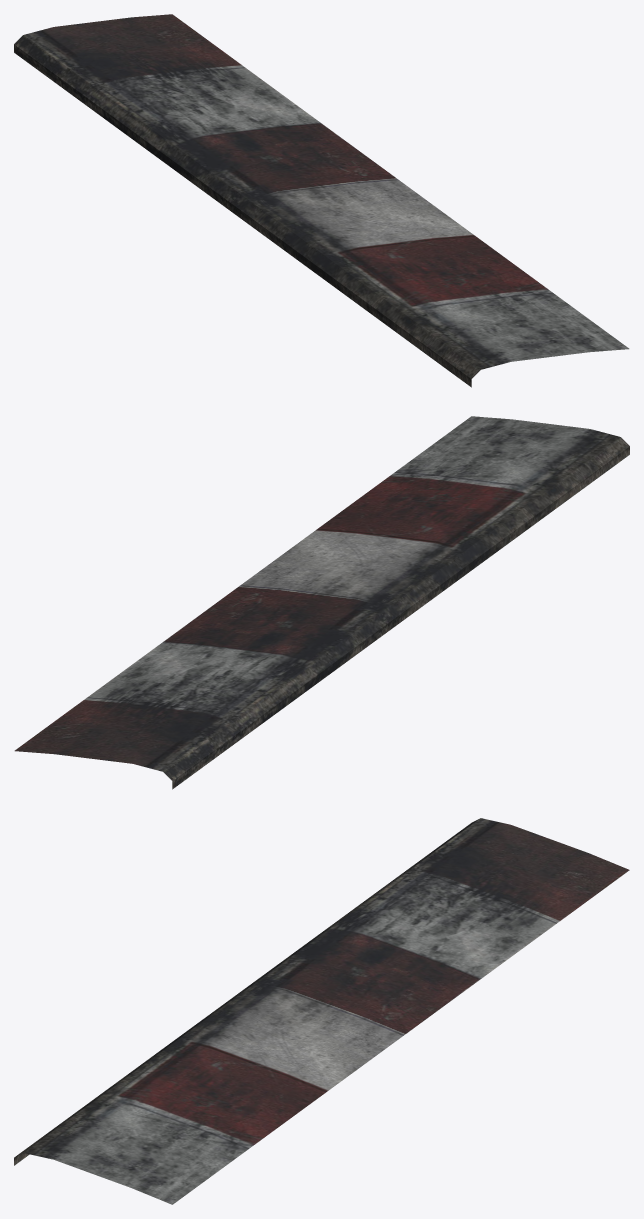
Rendered from RoadCurb.fbx.
3 views of the same model, one above another, from view 1: azimuth 30°, elevation 25°; view 2: azimuth 150°, elevation 25°; view 3: azimuth 330°, elevation 25° (orthographic).
Visible parts, largest first — view 1: RoadCurb; view 2: RoadCurb; view 3: RoadCurb.
Boxes of the visible parts, x1=… form: RoadCurb: x1=14, y1=14, x2=629, y2=387; RoadCurb: x1=14, y1=416, x2=629, y2=789; RoadCurb: x1=14, y1=818, x2=629, y2=1204.
Bounding box in the file's own units: 80 × 7.83 × 400.
1 material, 1 textured.
